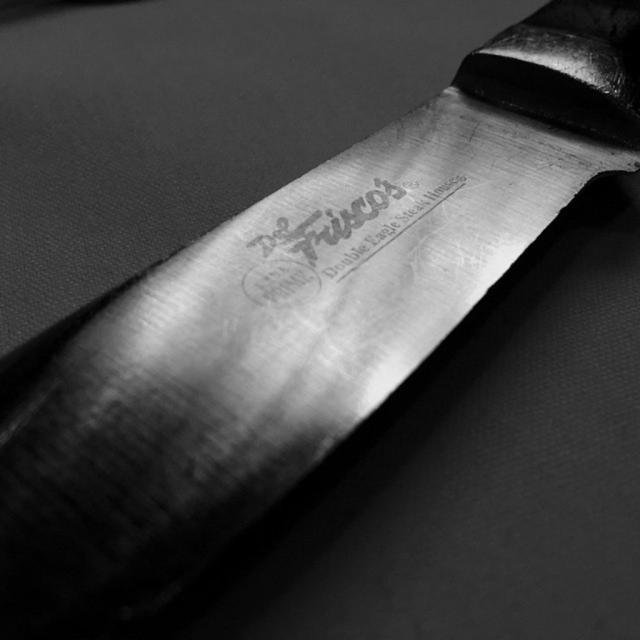Knife: (0, 0, 640, 631)
